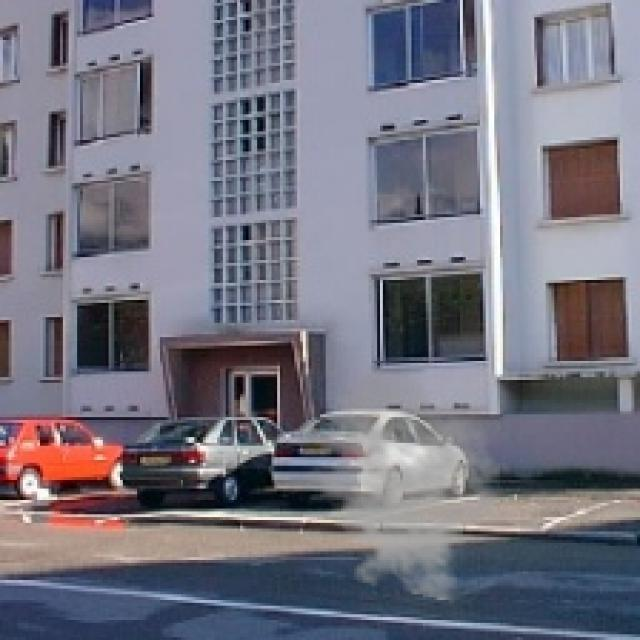Smoke: (297, 368, 512, 603)
